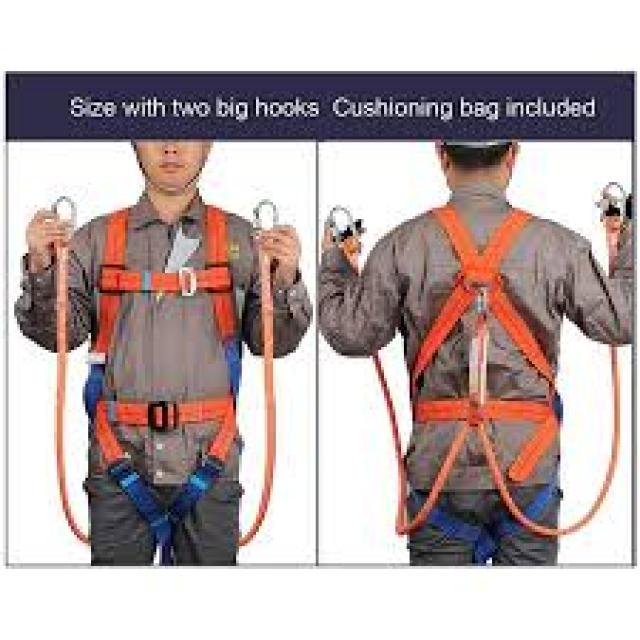Harness: (322, 202, 640, 562), (34, 192, 280, 542)
